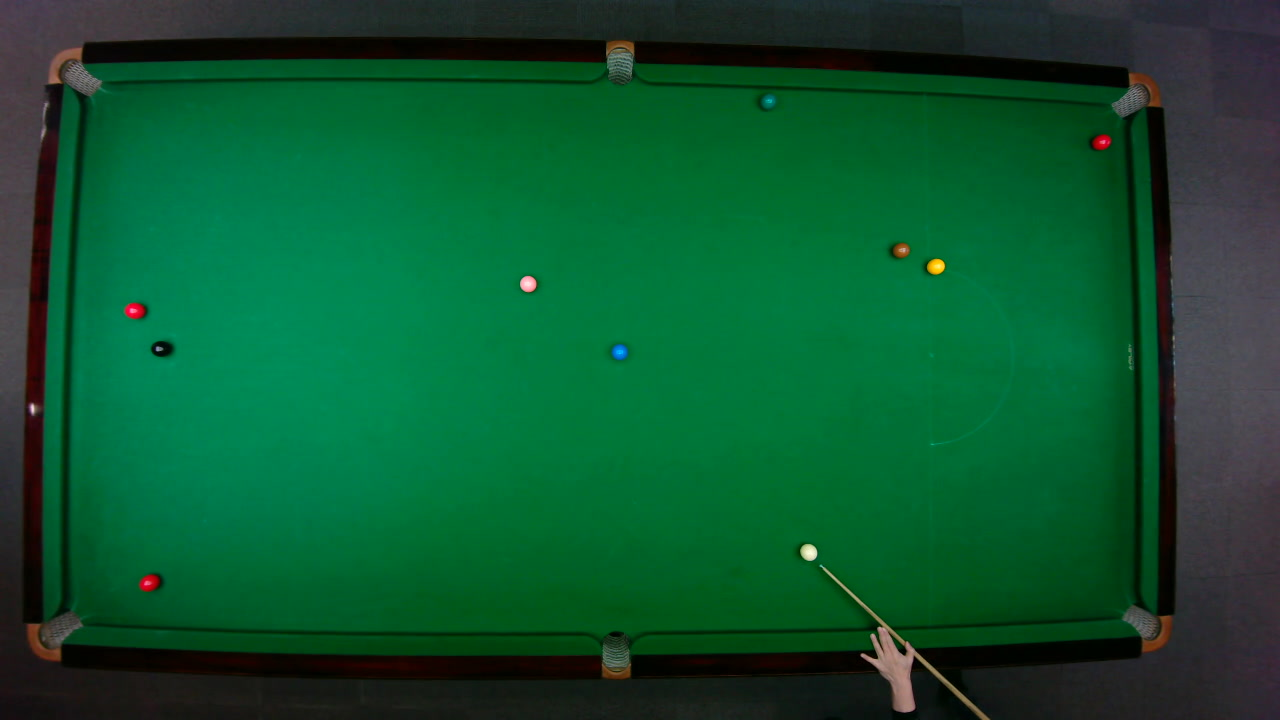bag: (24, 609, 84, 661), (45, 46, 101, 96), (1119, 603, 1171, 652), (1108, 71, 1161, 118), (600, 629, 629, 680), (605, 38, 633, 85)
black: (149, 339, 171, 357)
blue: (609, 342, 628, 360)
brown: (890, 241, 911, 258)
cue: (817, 563, 990, 719)
green: (758, 92, 776, 110)
pink: (518, 274, 537, 292)
red: (137, 572, 161, 592), (123, 301, 146, 319), (1090, 132, 1112, 150)
white: (798, 542, 818, 560)
yellow: (925, 256, 946, 275)
zone: (927, 268, 1013, 445)
